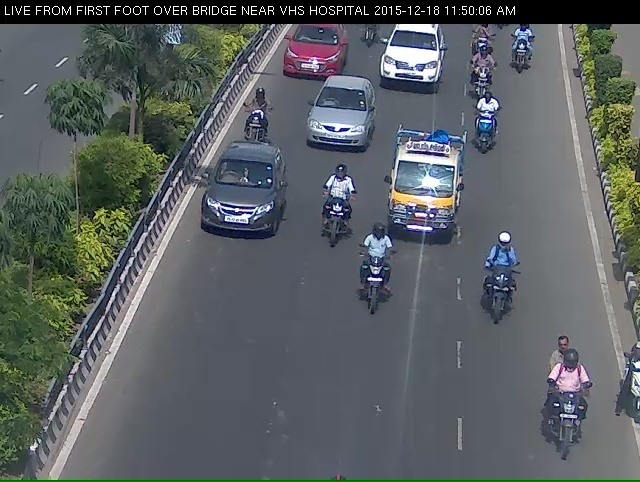Car: (389, 135, 461, 257), (199, 162, 274, 257), (385, 22, 443, 99), (308, 88, 366, 160), (282, 26, 339, 79)
Person: (541, 358, 590, 471), (316, 183, 353, 268), (482, 251, 515, 342), (361, 249, 393, 331), (237, 99, 262, 155), (474, 105, 497, 163), (510, 26, 534, 73), (469, 58, 494, 100), (466, 29, 489, 72)
